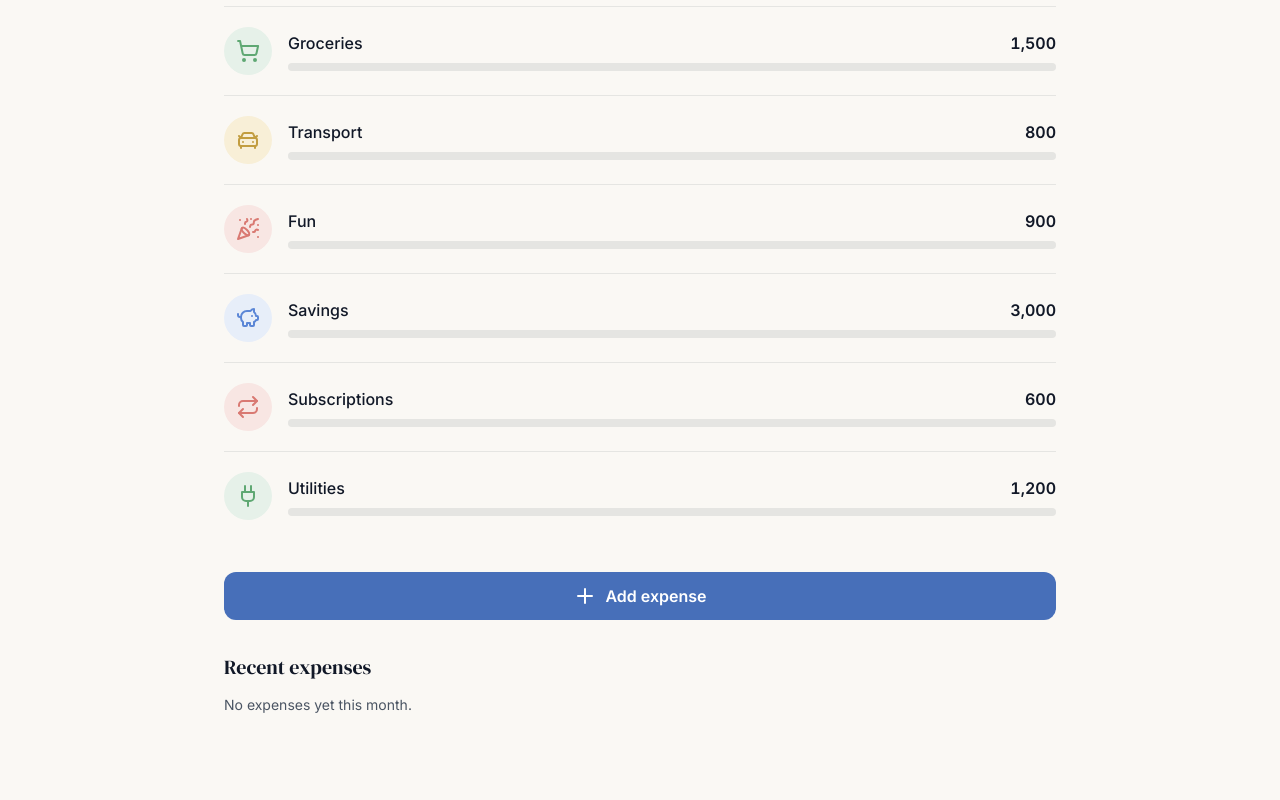
Test: qa-add-expense › QA-CC-30b: Cancel closes with zero POSTs
(page scrolled)
Click the button "Add expense" at (640, 596), box [224, 572, 1056, 620]
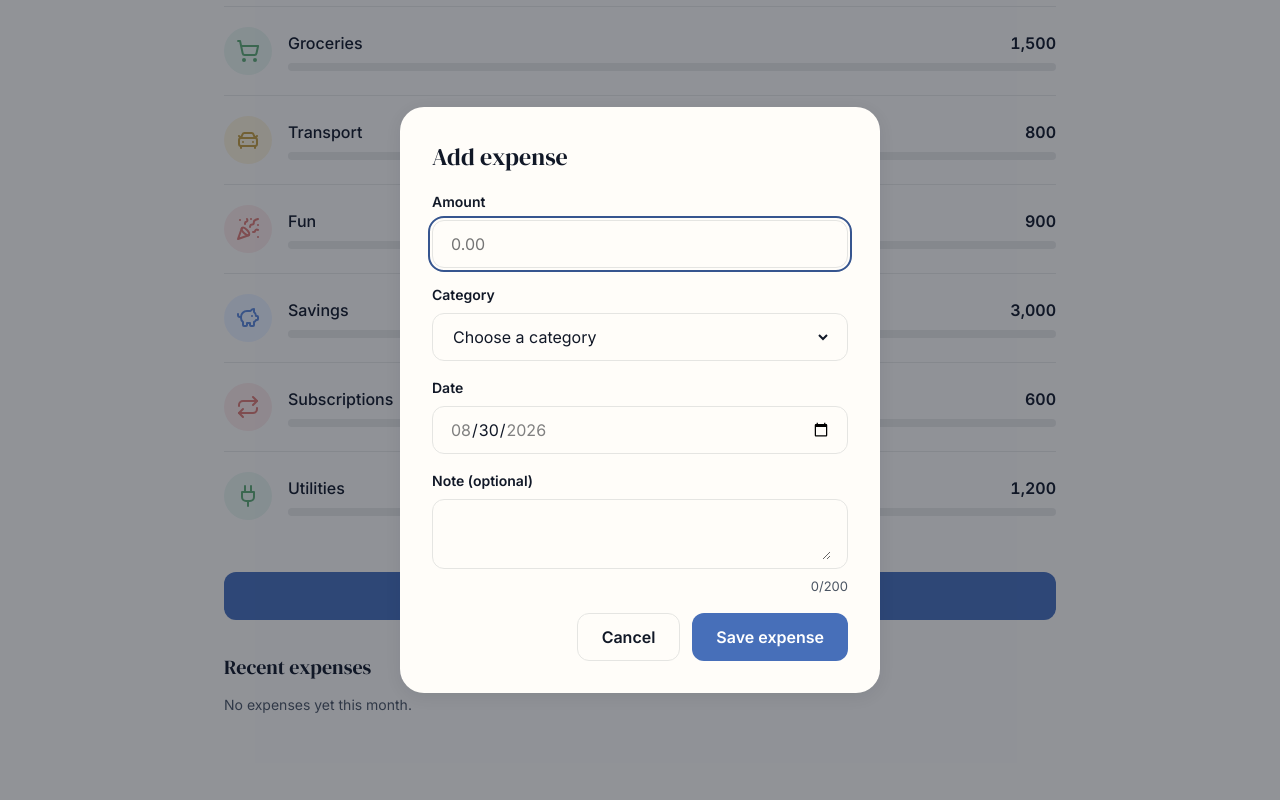
Now the dialog "Add expense" is shown, box [400, 107, 880, 693]
Type "42.50" into the field labelled "Amount" at (640, 244), box [449, 231, 831, 257]
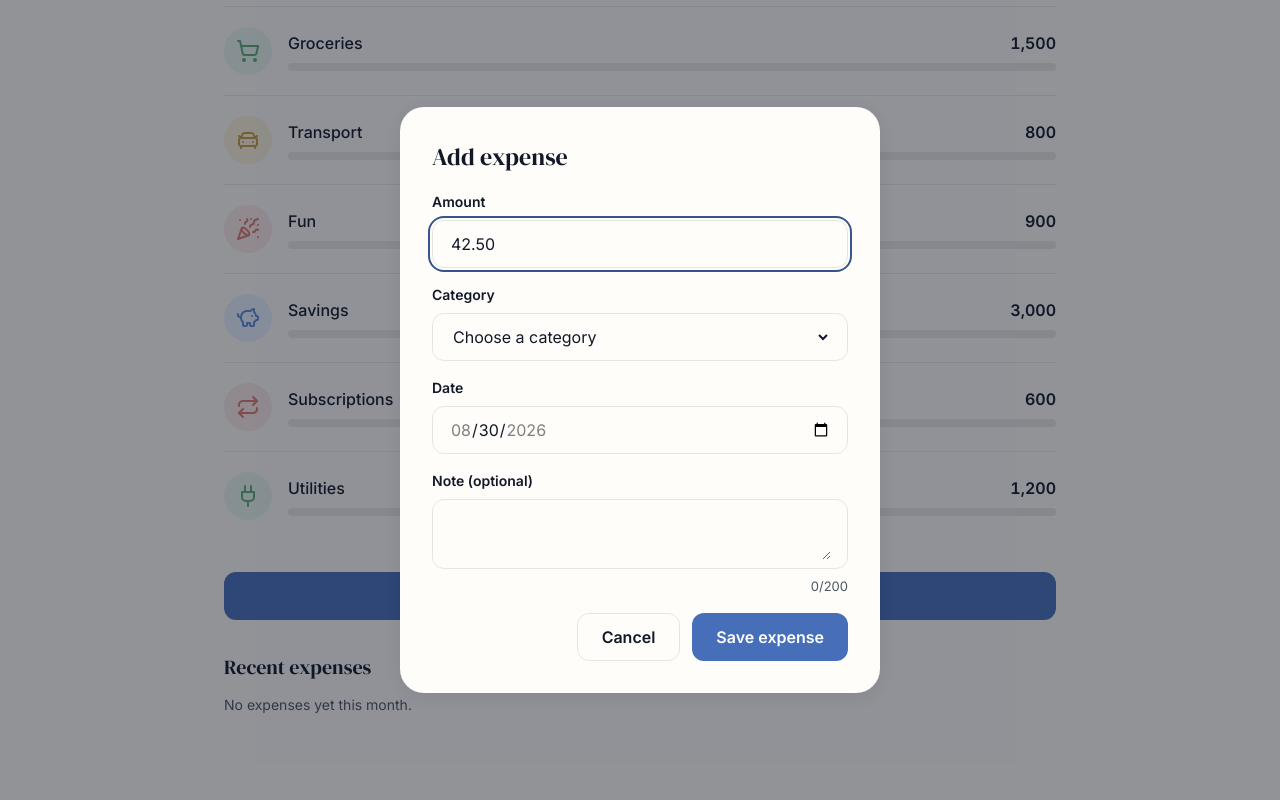
Select "Groceries" in the dropdown labelled "Category" at (640, 337), box [449, 314, 831, 360]
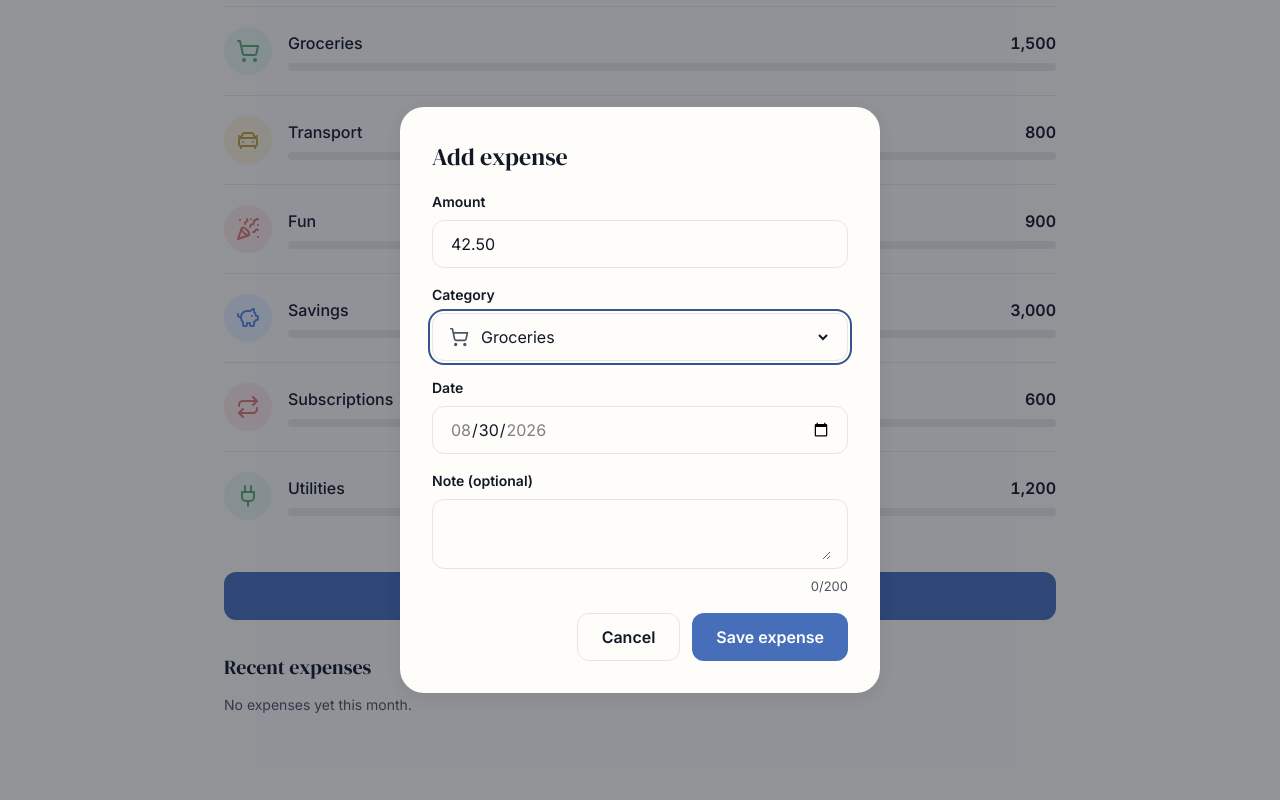
Click the button "Cancel" at (628, 637), box [577, 613, 680, 661]
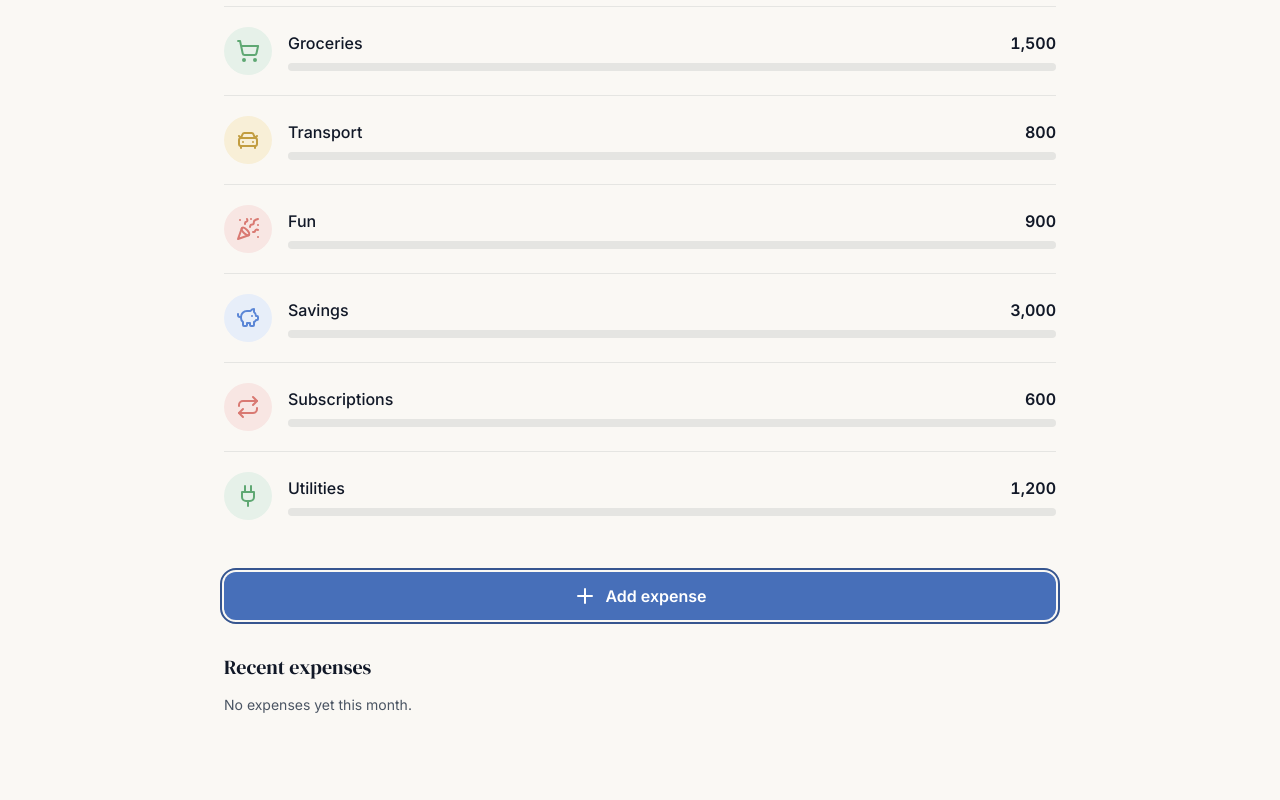
Now the dialog is gone
